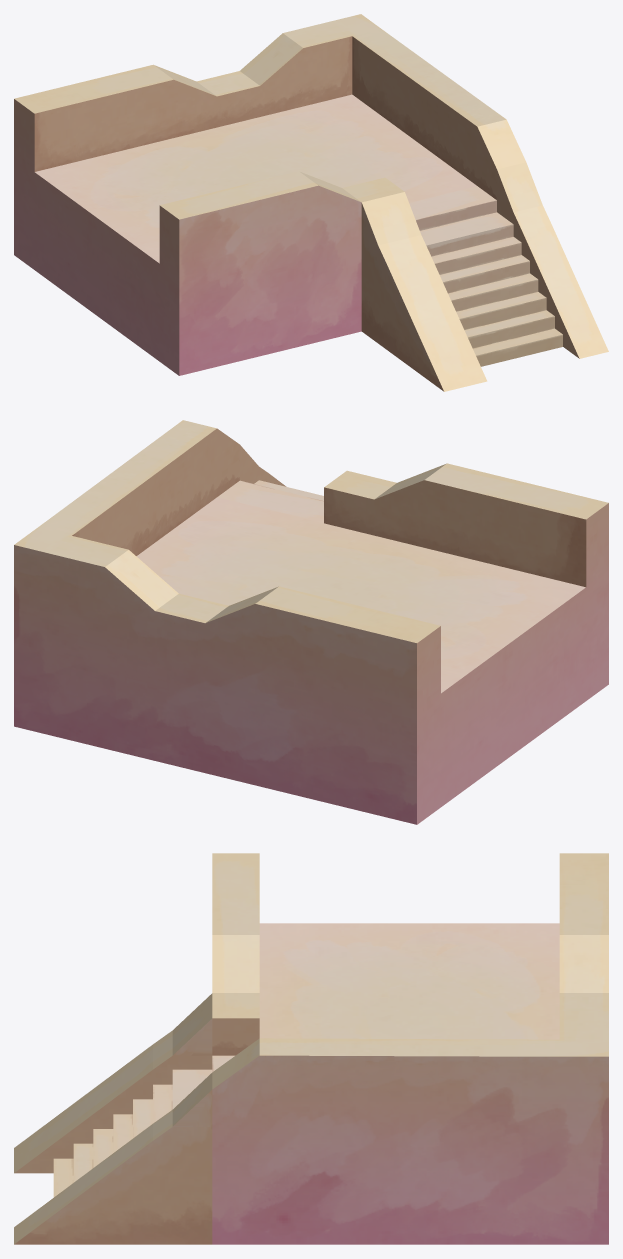
Rendered from academy_sidestairs.fbx.
The picture shows the model from 3 angles, top to bottom: view 1: azimuth 30°, elevation 25°; view 2: azimuth 150°, elevation 25°; view 3: azimuth 270°, elevation 25°; orthographic projection. The views are drawn at different scales.
Parts seen in each view (by area): view 1: Academy Side Stairs; view 2: Academy Side Stairs; view 3: Academy Side Stairs.
Boxes of the visible parts, x1,y1,x2,y2 form: Academy Side Stairs: [14, 14, 608, 391]; Academy Side Stairs: [14, 420, 608, 824]; Academy Side Stairs: [14, 853, 608, 1244].
Size of the model in its own units: 1658 by 718 by 2050.
